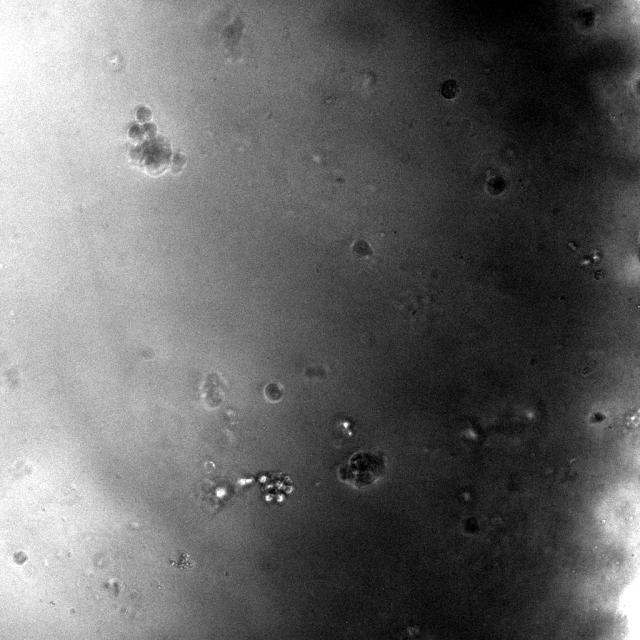organoid: (194, 470, 294, 514), (126, 104, 186, 177), (339, 450, 385, 487), (571, 6, 597, 30), (262, 381, 284, 403), (351, 239, 373, 259), (486, 175, 506, 195), (441, 79, 460, 100), (14, 551, 28, 564)
